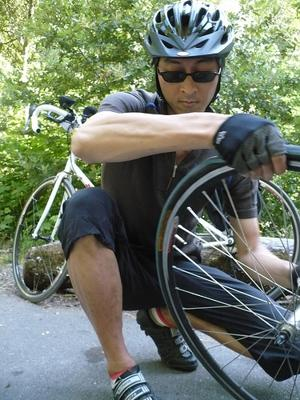person: (56, 2, 299, 400)
